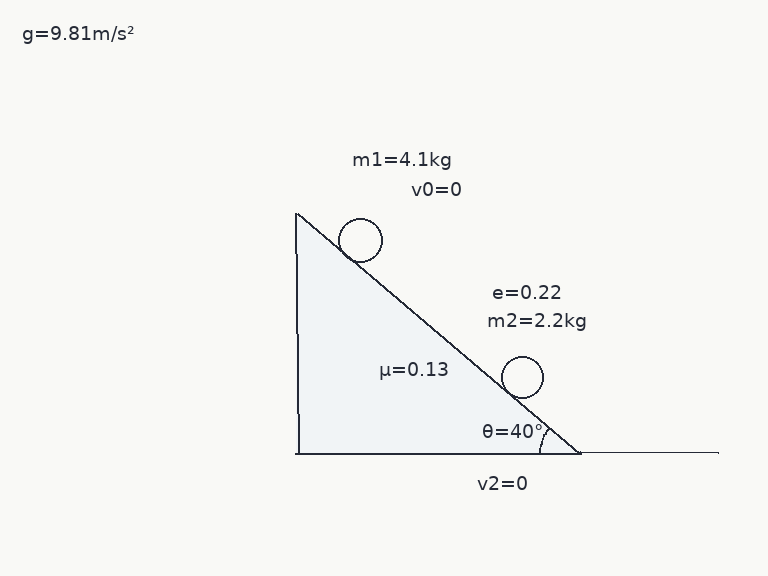ball: (336, 216, 384, 264), (499, 354, 545, 400)
ramp: (295, 213, 582, 455)
